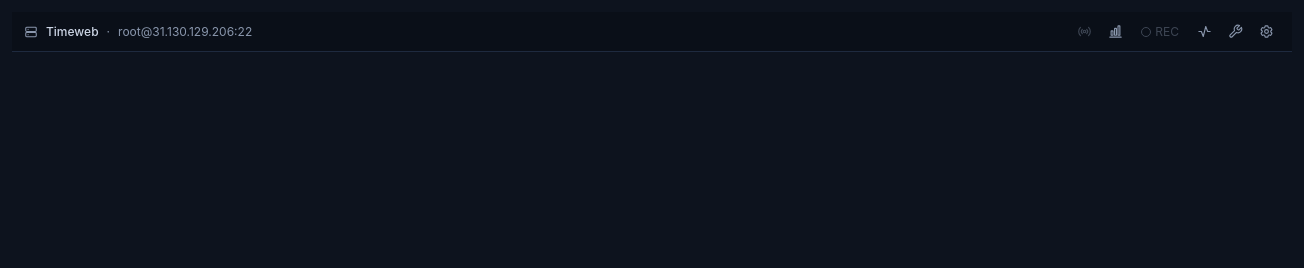
Test: TopBar — the user's buttons › Settings and Utilities cannot be taken off: the row is ticked and disabled, the button has no 'remove'
Right-click the button with test id "topbar-settings" at (1266,32), box [1253,18,1280,45]
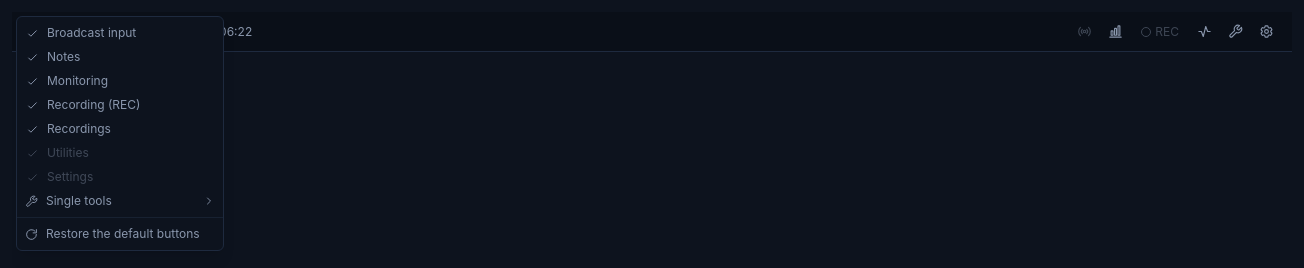
Result: the menu item "Settings" is disabled at [17,165,223,189]
Press Escape
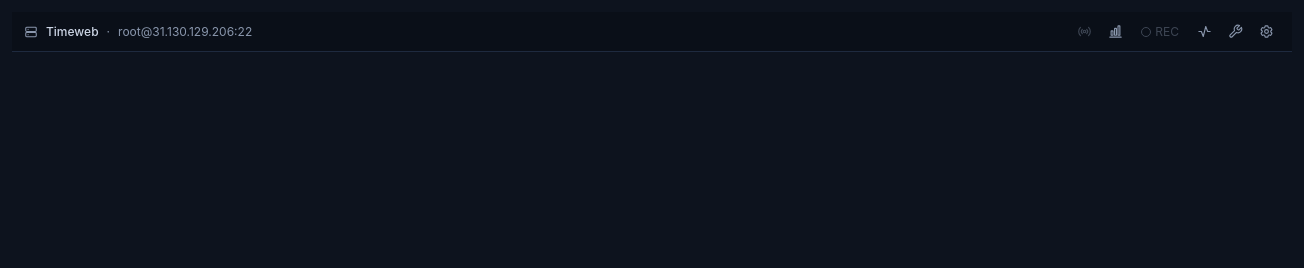
Result: the menu is gone
Right-click the button with test id "topbar-utilities" at (1236,32), box [1222,18,1249,45]
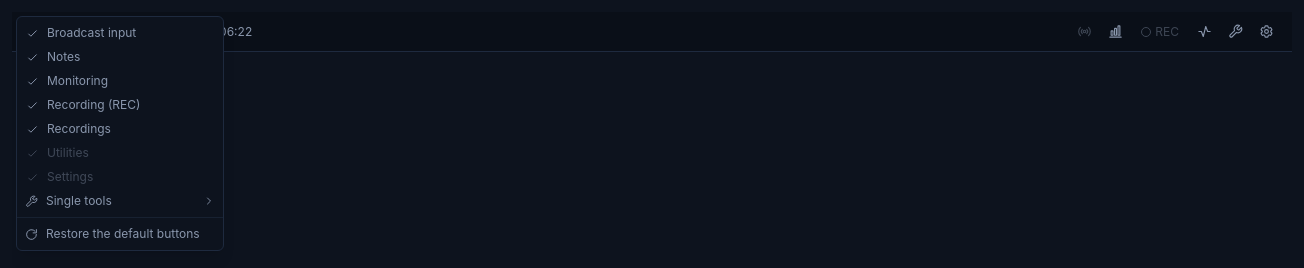
Result: the menu item "Utilities" is disabled at [17,141,223,165]
Press Escape
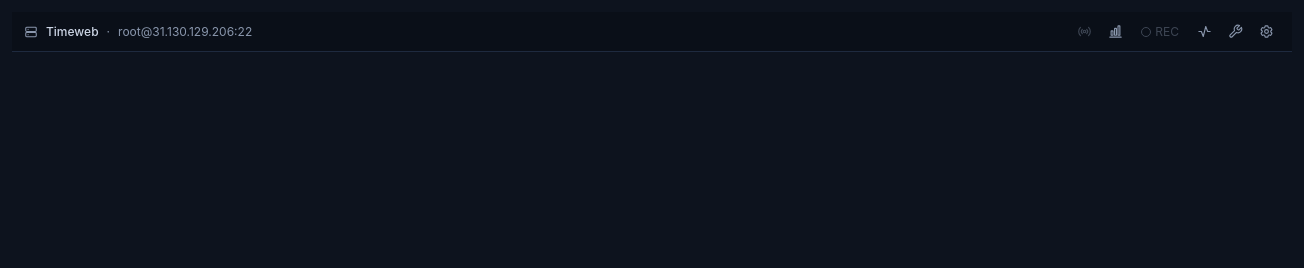
Result: the menu is gone
